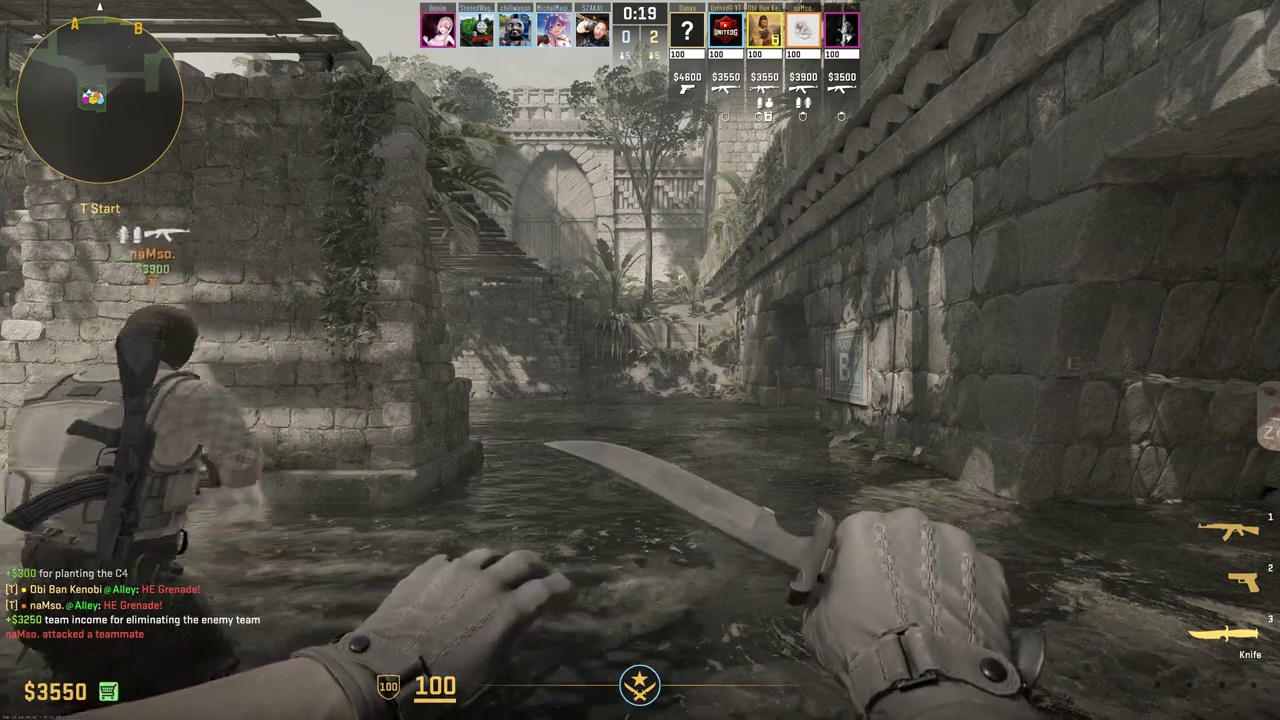Terrorist: (12, 306, 248, 685)
